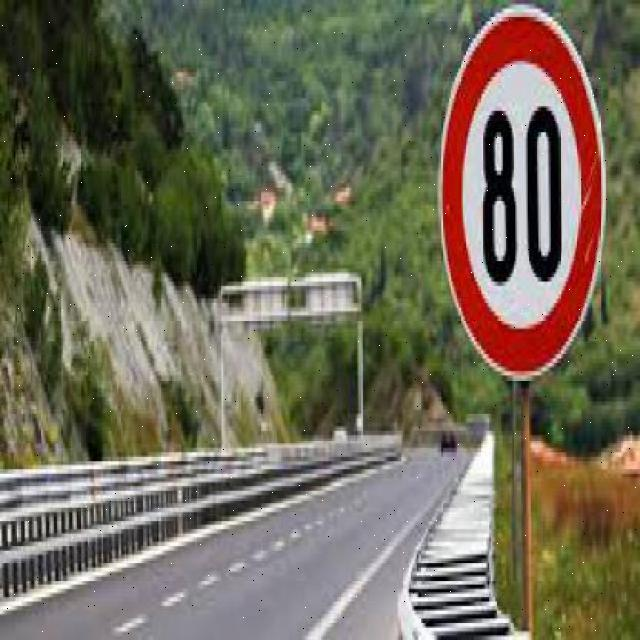speed limit 80: (439, 3, 607, 380)
